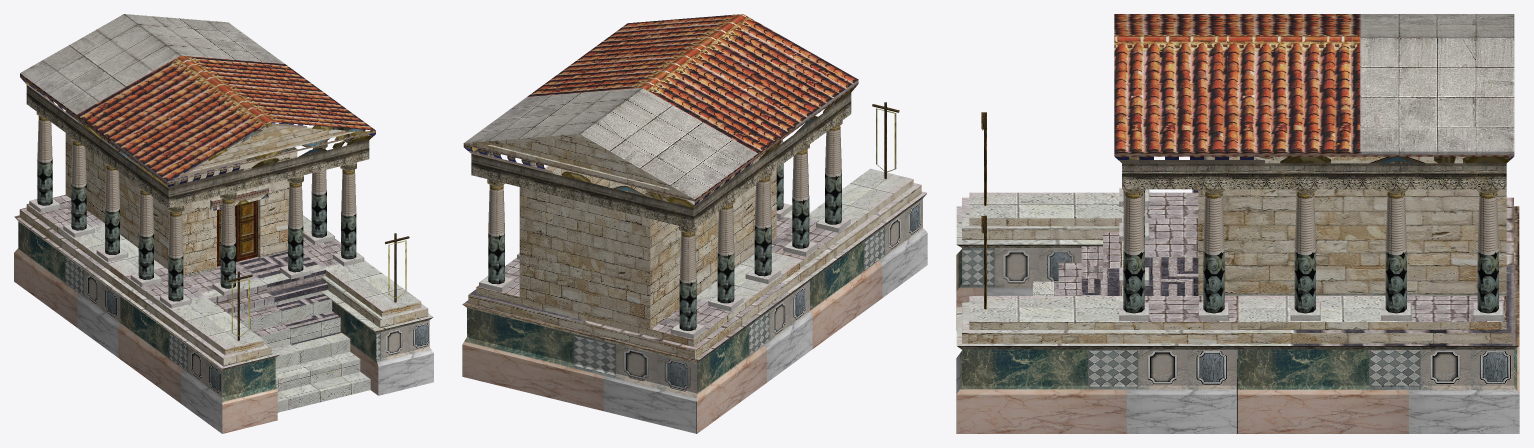
Rendered from rome_temple_2.dae.
3 views of the same model, side by side, from view 1: azimuth 30°, elevation 25°; view 2: azimuth 150°, elevation 25°; view 3: azimuth 270°, elevation 25° (orthographic). The views are drawn at different scales.
Parts seen in each view (by area): view 1: Box01; view 2: Box01; view 3: Box01.
Boxes of the visible parts, <box> form: Box01: <box>14,14,433,433</box>; Box01: <box>462,14,927,433</box>; Box01: <box>956,14,1519,433</box>.
Bounding box in the file's own units: 16.77 × 28.48 × 18.33.
